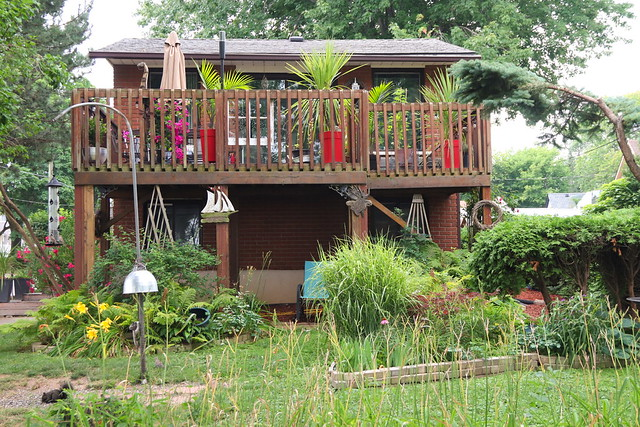medium: (70, 31, 504, 336)
